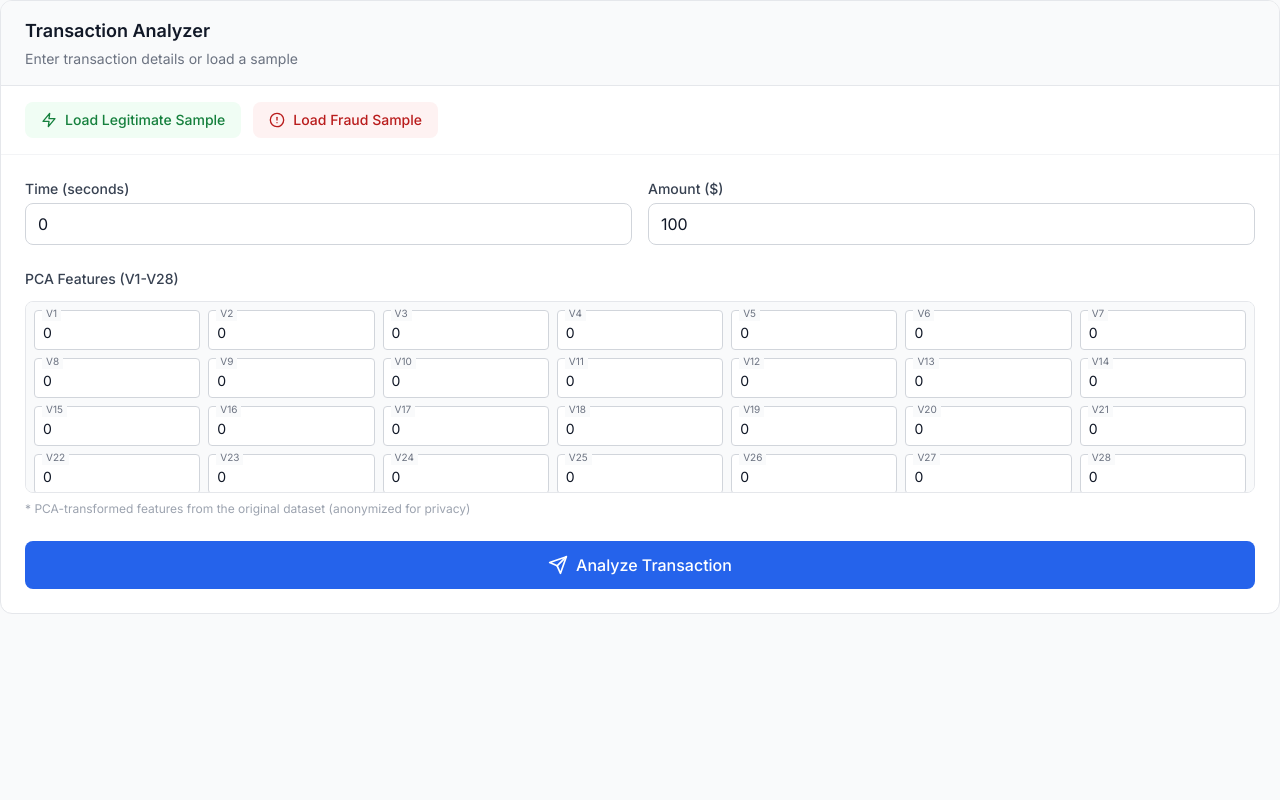
Test: TransactionForm Component › Sample Loading › shows error when sample loading fails
This screenshot has width=1280, height=800.
Click the button "Load Legitimate Sample" at (133, 120), box [25,102,241,138]
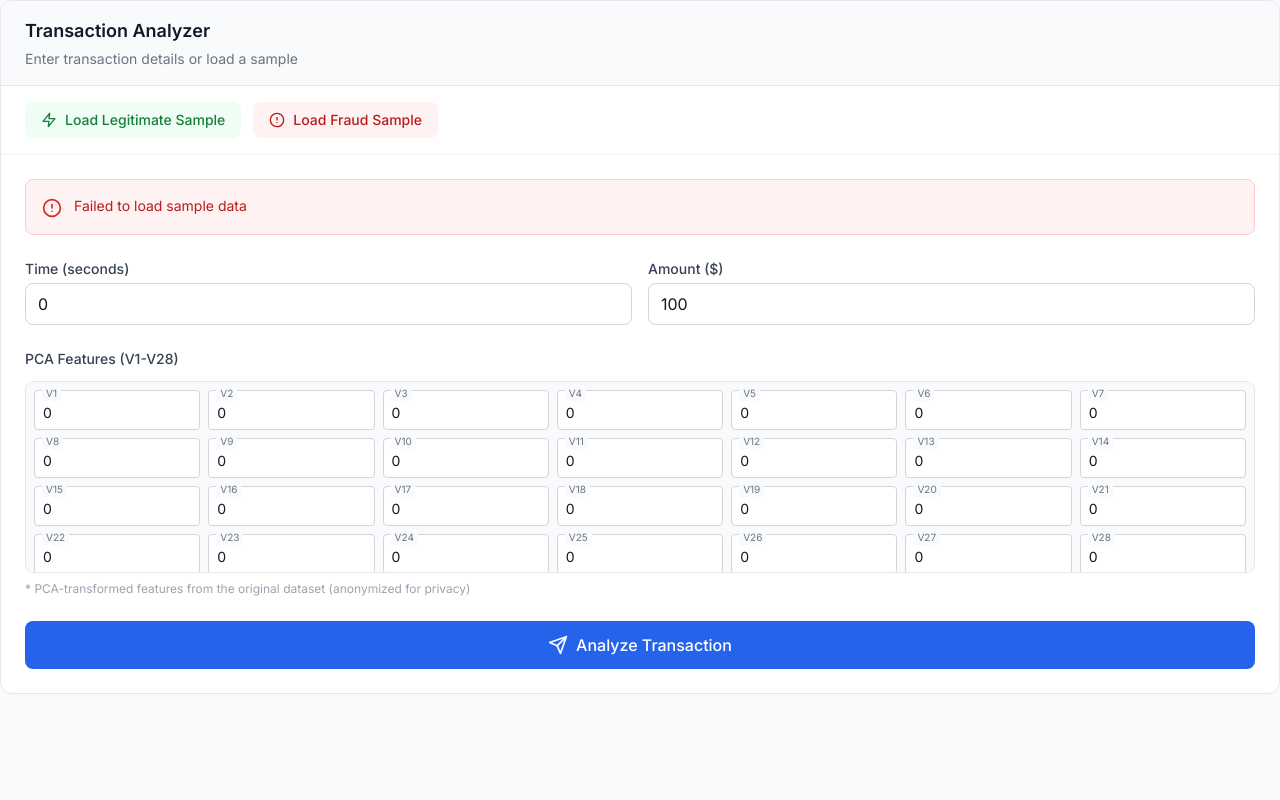
Now the text "Failed to load sample data" is shown, box [74,196,247,216]
